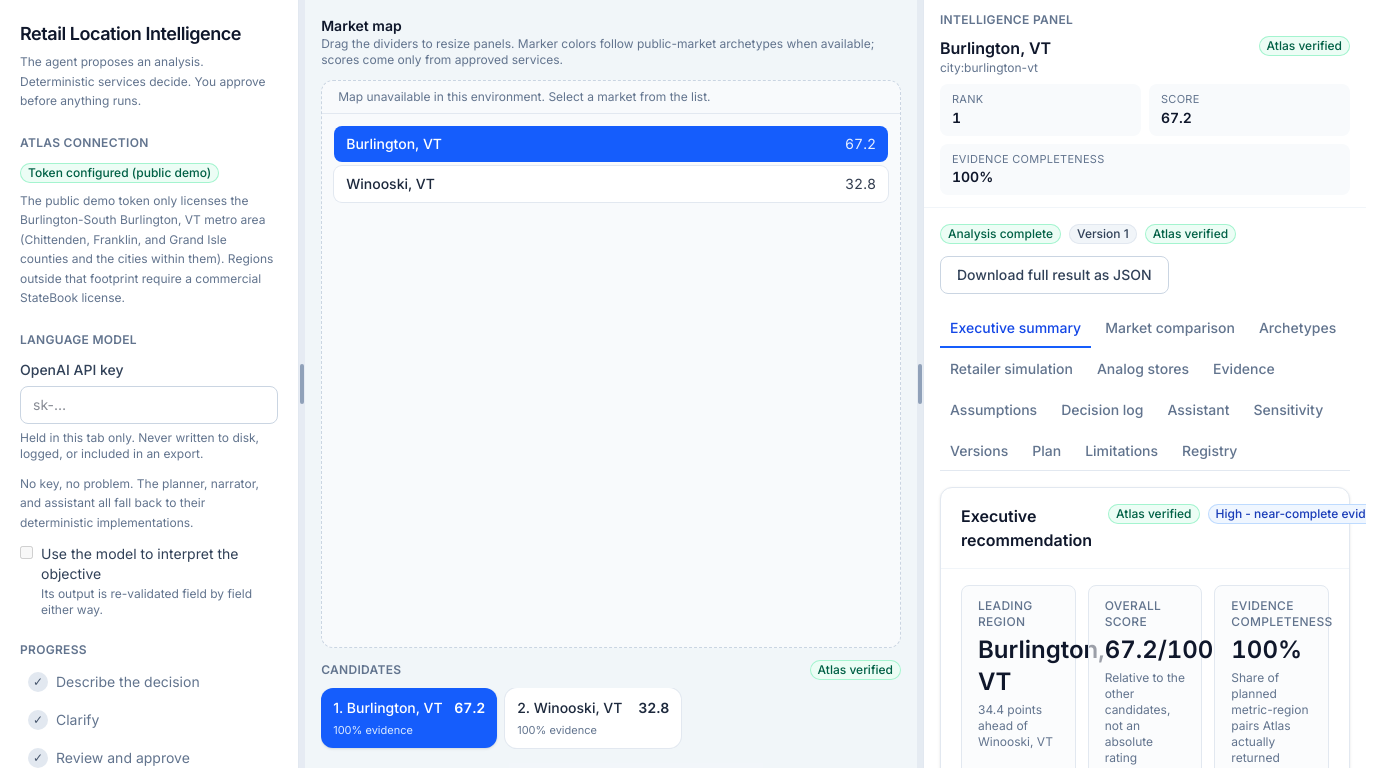
the result panels › sorts limitations so blocking ones are read first
The image size is (1378, 768).
Check: the heading "Executive recommendation" is shown, box [961, 504, 1092, 552]
Click the tab "Limitations".
click(1122, 452)  # box [1075, 433, 1168, 471]
(page scrolled)
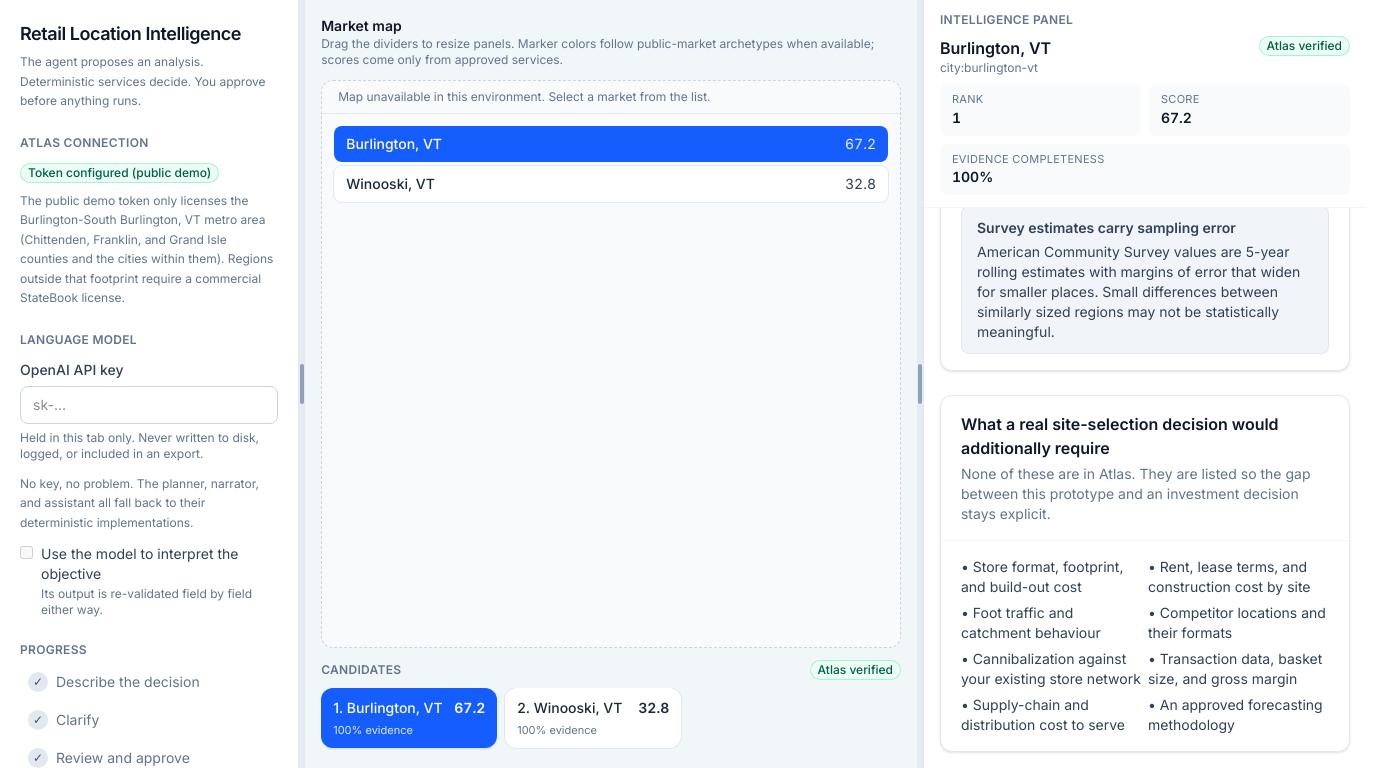
Check: the text "Survey estimates carry sampling error" is shown, box [977, 219, 1236, 236]
Check: the list item "• Cannibalization against your existing store network" is shown, box [961, 649, 1142, 689]
